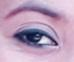open: (4, 20, 74, 60)
